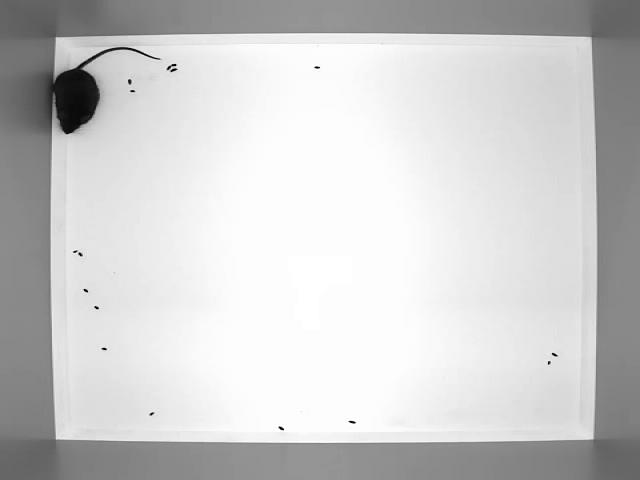Tikus: (56, 46, 161, 135)
